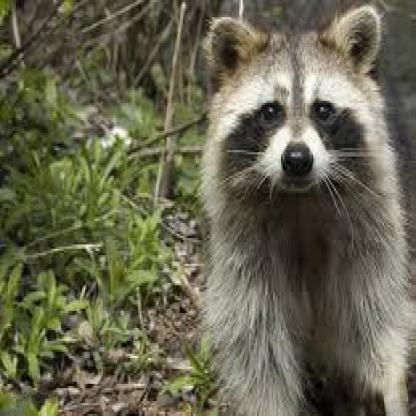raccoon: (173, 2, 415, 415)
